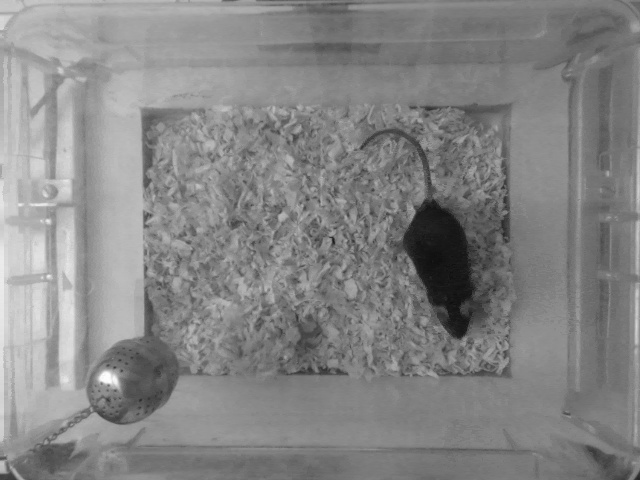mice: (351, 120, 478, 346)
